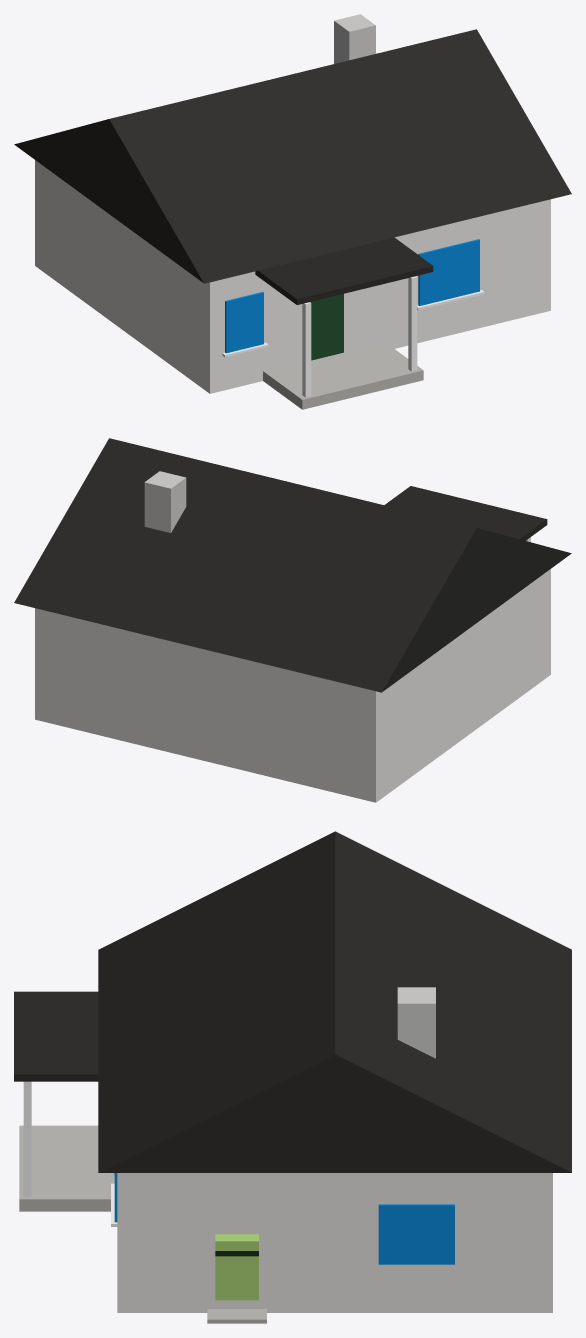
Rendered from house-bungalow.glb.
3 views of the same model, one above another, from view 1: azimuth 30°, elevation 25°; view 2: azimuth 150°, elevation 25°; view 3: azimuth 270°, elevation 25° (orthographic). The views are drawn at different scales.
Parts seen in each view (by area): view 1: Roof, Walls, PorchRoof, Porch, Window, Window.001, Door, Chimney, PorchPostR, PorchPostL; view 2: Roof, Walls, PorchRoof, Chimney; view 3: Roof, Walls, PorchRoof, Porch, Window.002, Battery, Chimney, PorchPostR, BatteryPad.
Boxes of the visible parts, box(x1,y1,x2,y2) form: Roof: box(14, 29, 571, 283); Walls: box(35, 160, 550, 393); PorchRoof: box(255, 237, 433, 304); Porch: box(263, 341, 423, 409); Window: box(418, 239, 479, 305); Window.001: box(225, 292, 263, 353); Door: box(310, 294, 343, 360); Chimney: box(334, 14, 375, 63); PorchPostR: box(408, 276, 417, 371); PorchPostL: box(302, 302, 311, 397); Roof: box(14, 438, 571, 692); Walls: box(35, 569, 550, 802); PorchRoof: box(384, 486, 547, 540); Chimney: box(144, 471, 186, 532); Roof: box(98, 831, 571, 1172); Walls: box(117, 1173, 552, 1312); PorchRoof: box(14, 991, 98, 1081); Porch: box(19, 1125, 114, 1211); Window.002: box(378, 1204, 454, 1264); Battery: box(215, 1234, 258, 1300); Chimney: box(397, 987, 435, 1058); PorchPostR: box(23, 1081, 31, 1196); BatteryPad: box(207, 1309, 266, 1323).
Bounding box in the file's own units: 9.82 × 5.5 × 10.25.
